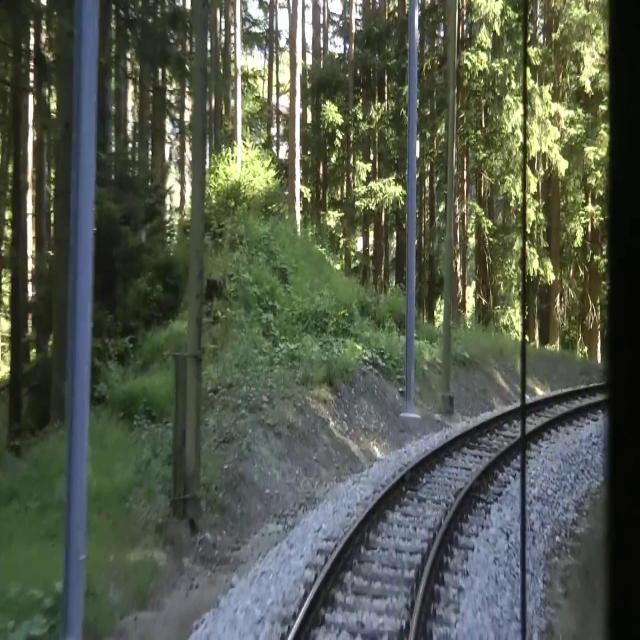rail-track: (293, 386, 606, 639)
